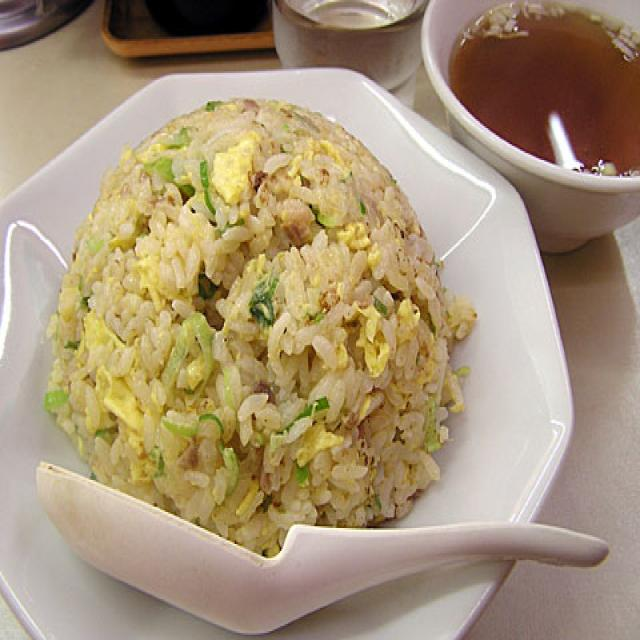米饭主食: (0, 58, 592, 640)
